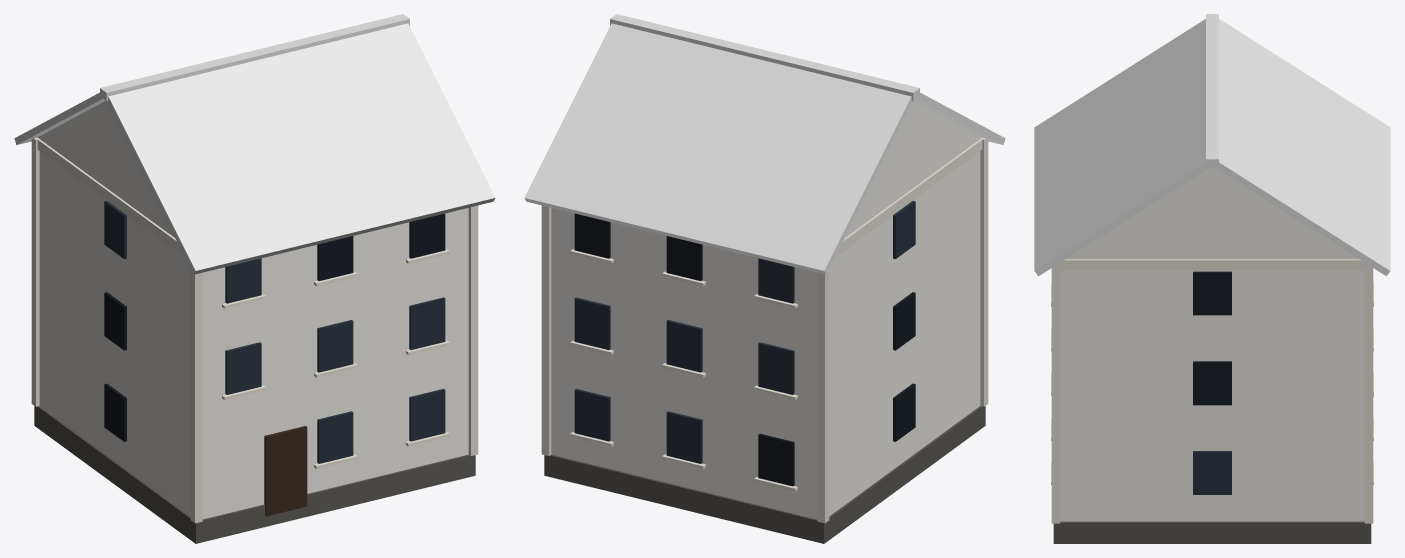
The model's file is house_square.glb.
3 views of the same model, side by side, from view 1: azimuth 30°, elevation 25°; view 2: azimuth 150°, elevation 25°; view 3: azimuth 270°, elevation 25° (orthographic).
Parts seen in each view (by area): view 1: Walls, Roof, Windows, Trim, Plinth, Gables, Door; view 2: Walls, Roof, Windows, Trim, Plinth, Gables; view 3: Walls, Roof, Gables, Trim, Plinth, Windows.
Part boxes in pixels (<box>): Walls: <box>39,151,468,519</box>; Roof: <box>14,14,495,274</box>; Windows: <box>104,201,445,463</box>; Trim: <box>31,137,478,523</box>; Plinth: <box>34,406,475,543</box>; Gables: <box>38,100,174,237</box>; Door: <box>264,426,307,516</box>; Walls: <box>551,151,980,519</box>; Roof: <box>524,14,1005,274</box>; Windows: <box>574,201,915,486</box>; Trim: <box>541,137,988,523</box>; Plinth: <box>544,406,985,543</box>; Gables: <box>845,100,981,237</box>; Walls: <box>1060,270,1364,521</box>; Roof: <box>1034,14,1390,276</box>; Gables: <box>1066,167,1358,259</box>; Trim: <box>1051,259,1373,523</box>; Plinth: <box>1053,521,1371,543</box>; Windows: <box>1193,271,1231,494</box>.
Size of the model in its own units: 8.8 by 11.01 by 9.11.
